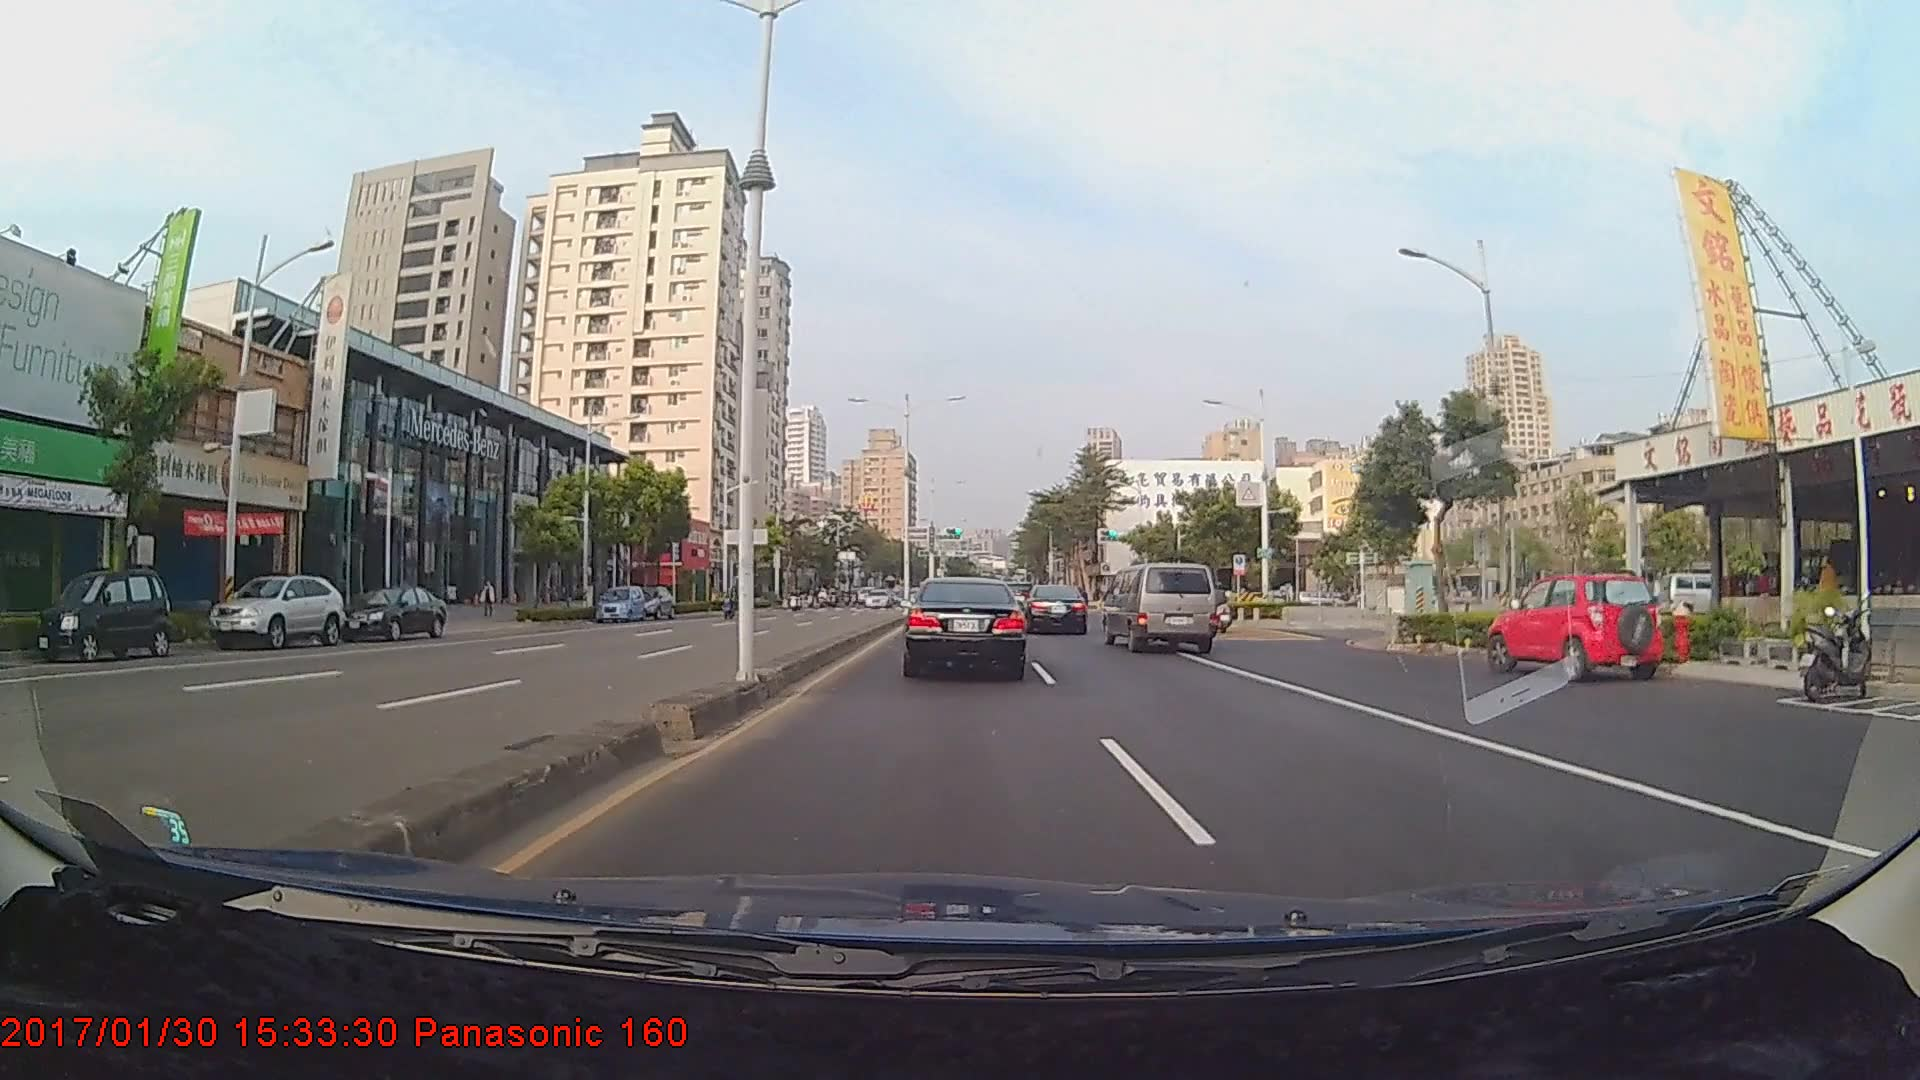pedestrian: (1818, 557, 1842, 636), (479, 579, 499, 621)
vehicle: (1495, 571, 1657, 681), (905, 575, 1025, 679), (1103, 561, 1216, 653), (206, 571, 342, 648), (85, 571, 169, 658), (339, 585, 446, 641), (1022, 583, 1089, 636), (596, 584, 646, 622), (633, 585, 672, 619), (863, 587, 891, 609)
